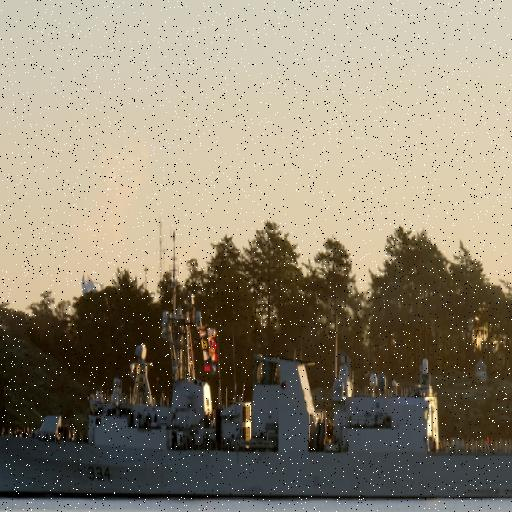Fragata: (1, 246, 512, 508)
